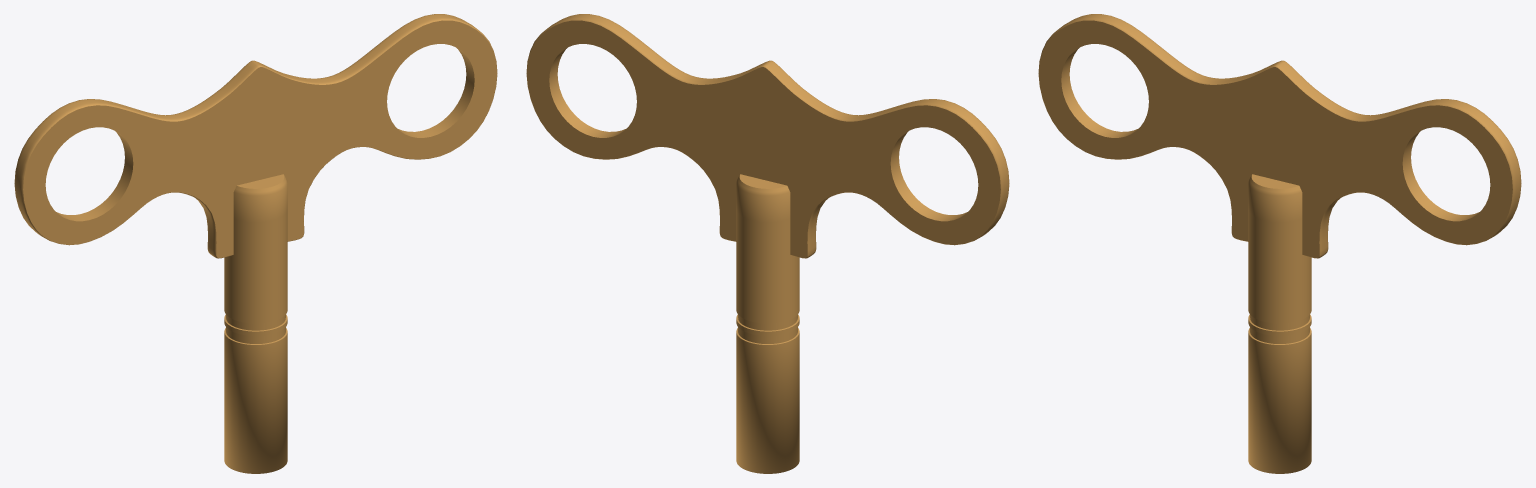
File: neji.glb
3 renders of one model, left to right at view 1: azimuth 30°, elevation 25°; view 2: azimuth 150°, elevation 25°; view 3: azimuth 330°, elevation 25°, orthographic.
Visible parts, largest first — view 1: nejimaki; view 2: nejimaki; view 3: nejimaki.
Part boxes in pixels (bbox=[...]): nejimaki: bbox=[14, 14, 497, 473]; nejimaki: bbox=[526, 14, 1009, 473]; nejimaki: bbox=[1038, 14, 1521, 473].
Size of the model in its own units: 0.9306 by 0.7482 by 0.1071.
